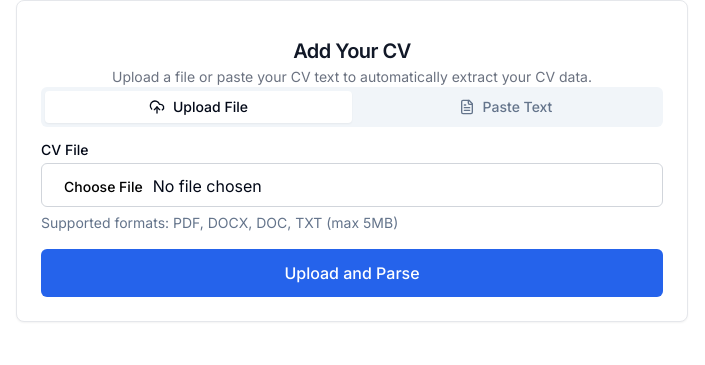
Test case: CVUploadForm Component › displays validation error when no file is selected
Click the button "Upload and Parse". click: (352, 273)
box: top-left (41, 249), bottom-right (663, 297)
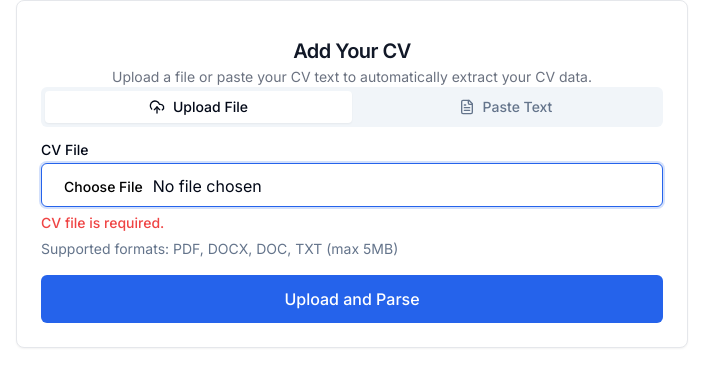
Now the text "CV file is required." is shown, box top-left (41, 214), bottom-right (164, 231)
